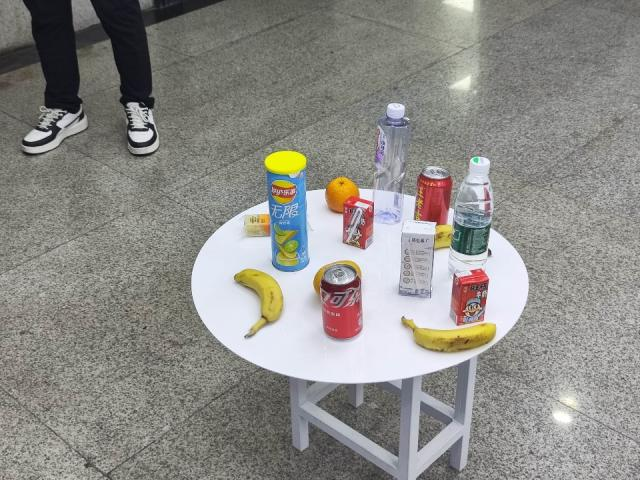Canned_drinks: (318, 264, 372, 348), (412, 164, 452, 222)
bottle: (450, 155, 498, 270)
cylinder: (270, 152, 313, 272)
drink_box: (397, 221, 435, 309)
